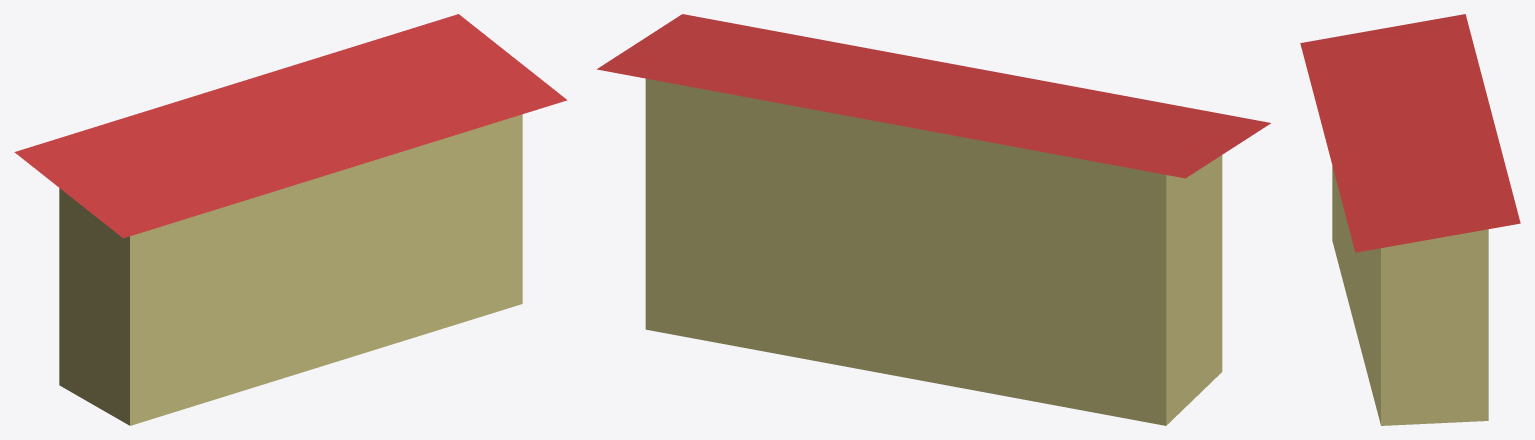
The picture shows the model from 3 angles, left to right: view 1: azimuth 30°, elevation 25°; view 2: azimuth 150°, elevation 25°; view 3: azimuth 270°, elevation 25°; orthographic projection. The views are drawn at different scales.
Size of the model in its own units: 13.27 by 5.69 by 5.93.
